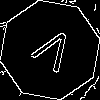V: (25, 25, 78, 81)
